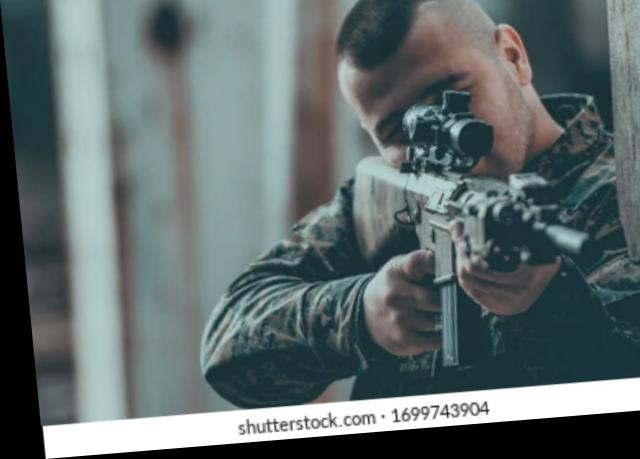other: (171, 0, 596, 406)
